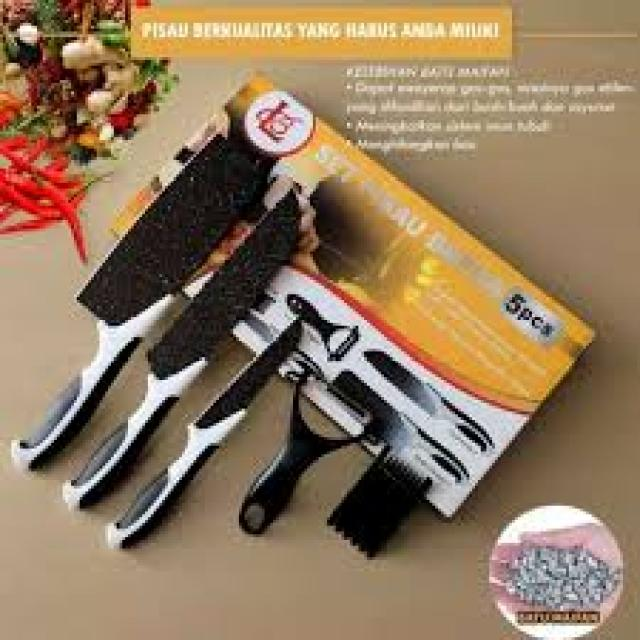Knife: (29, 103, 367, 593)
